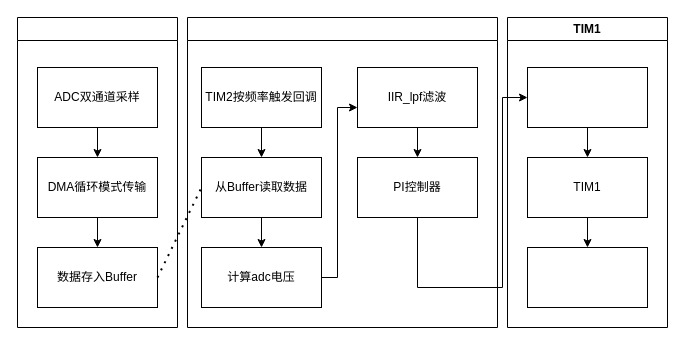
Some shapes in this 685 by 345 pixel diagram are drawn without their labels. The shapes that lost their labels are listed below. From the top down, each one's box as (x1, y1, x2, y2) in pixels, then its label:
(526, 66, 648, 128): PWM占空比限制
(16, 16, 178, 328): DMA
(186, 16, 498, 328): TIM2回调
(526, 246, 648, 308): 产生特定频率和占空比的PWM
